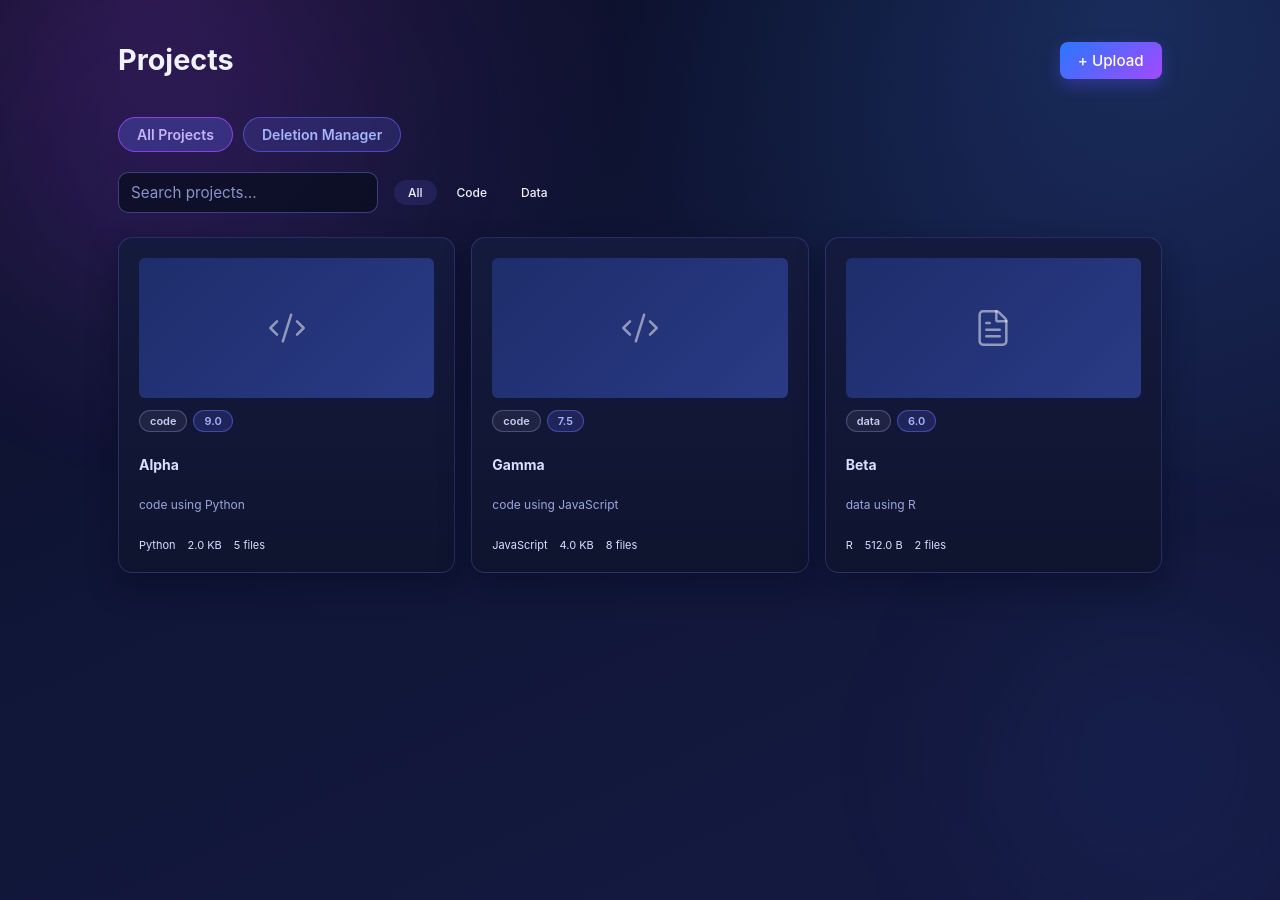
Test case: Projects - filtering › filters projects by search text
Expected: the heading "Alpha" is shown, [139,456,179,473]
Type "Alpha" into the field with placeholder "Search projects…" at (248, 193), box [118,172,378,213]
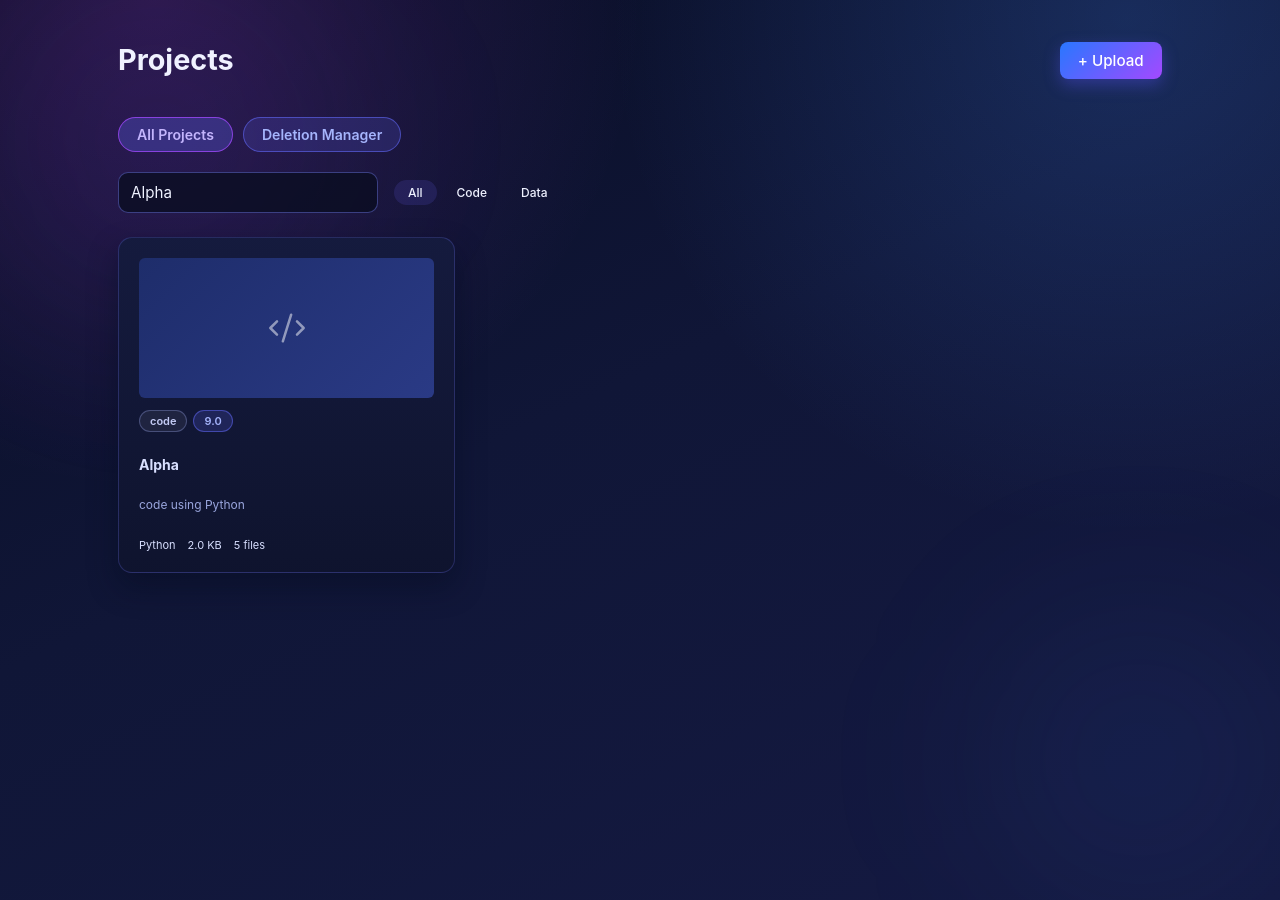
Expected: the heading "Alpha" is shown, [139,456,179,473]
Expected: the heading "Beta" is gone
